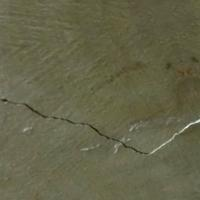crack: (0, 77, 199, 180)
